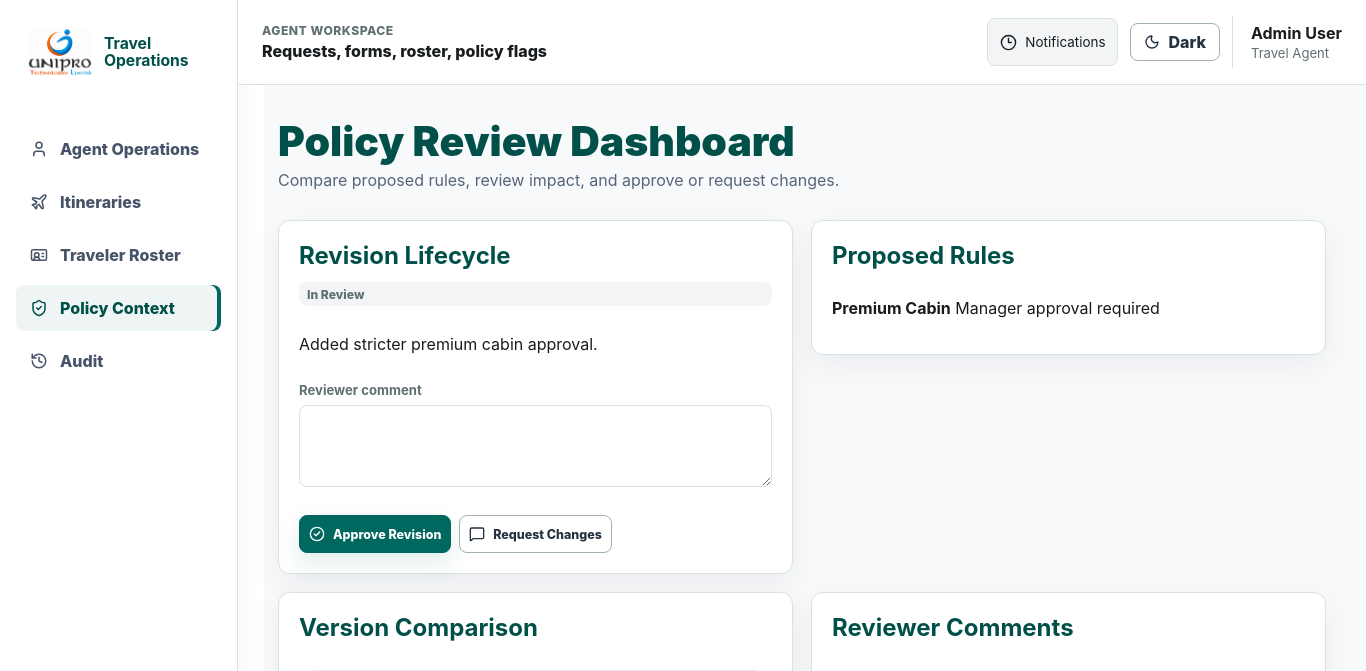
Test case: production command center routes › requests policy revision changes from the review dashboard
Expected: the text "Added stricter premium cabin approval." is shown, left=299, top=334, right=598, bottom=354
What coordinates should you click on to do the following:
click the button "Request Changes"
I would click on:
 (535, 534)
Its box is left=459, top=515, right=612, bottom=553.
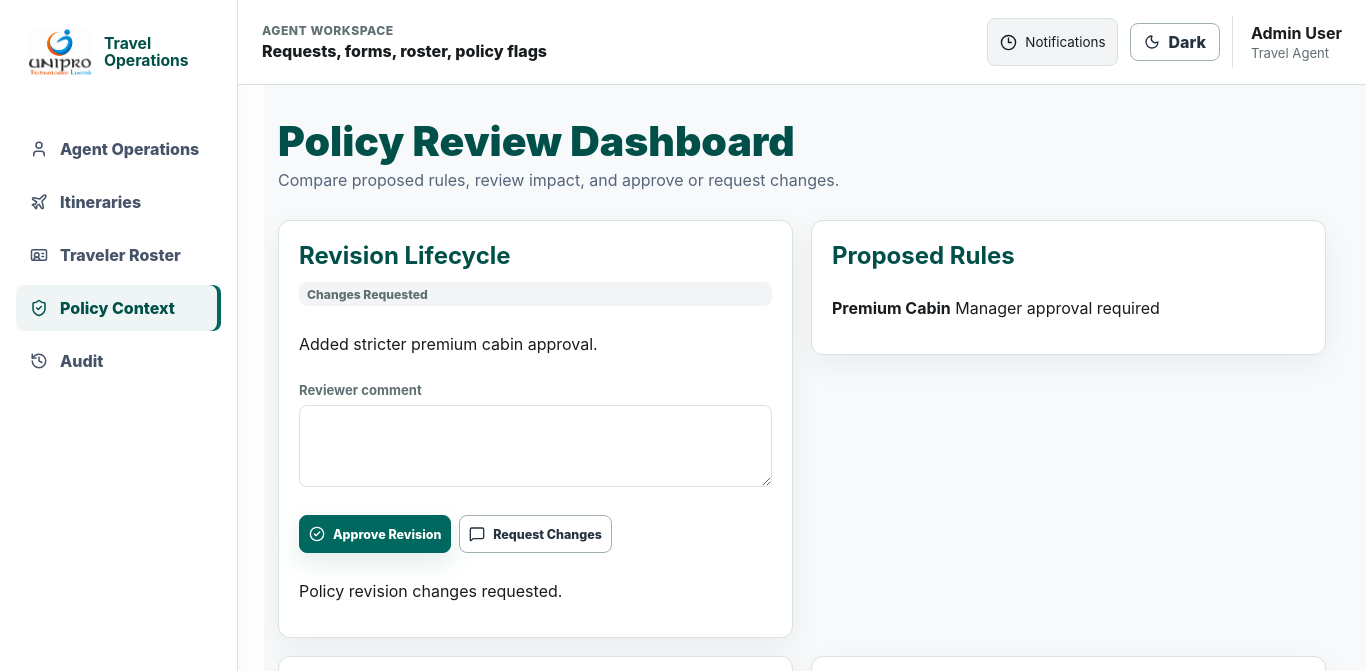
Result: the message reads "Policy revision changes requested." at left=299, top=581, right=562, bottom=601
